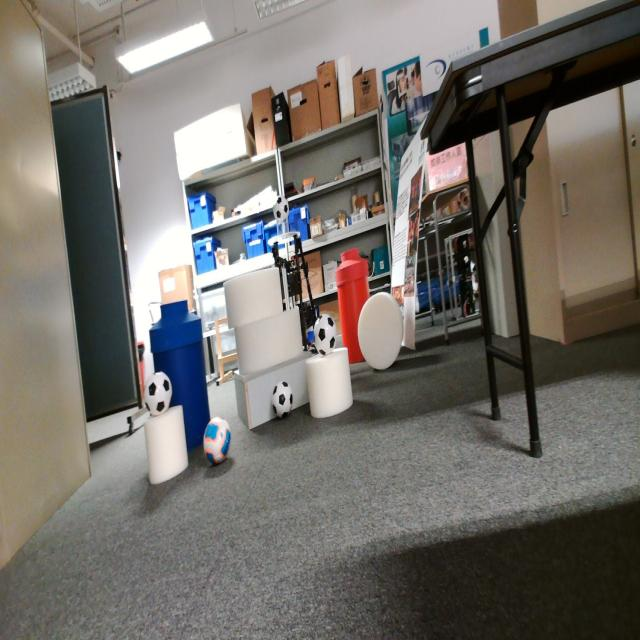ball: (202, 413, 233, 468), (142, 369, 173, 418), (312, 311, 338, 358), (270, 378, 294, 422), (272, 193, 291, 224)
